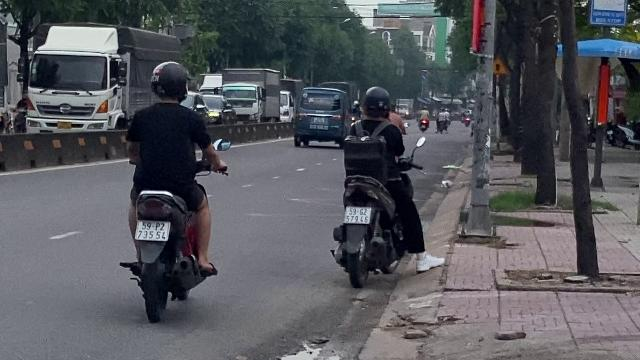helmet: (149, 60, 191, 103), (361, 86, 392, 118)
licenseplate: (136, 220, 168, 240), (344, 206, 370, 224)
motorcyclist: (116, 60, 224, 316), (329, 84, 426, 286)
